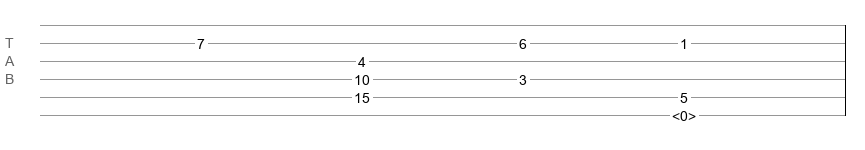1: (680, 36, 688, 46)
10: (354, 72, 370, 82)
15: (354, 90, 370, 100)
3: (519, 72, 527, 82)
4: (358, 54, 366, 64)
5: (680, 90, 688, 100)
6: (519, 36, 527, 46)
7: (197, 36, 205, 46)
harmonic: (672, 108, 696, 118)
